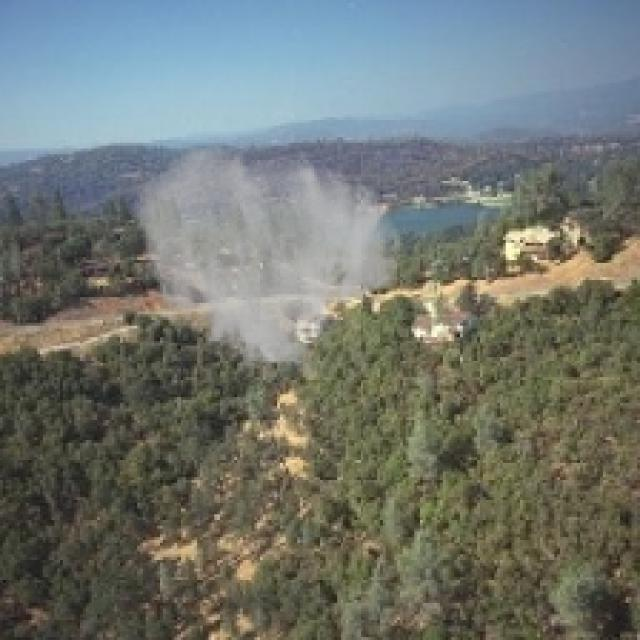smoke: (131, 143, 403, 380)
